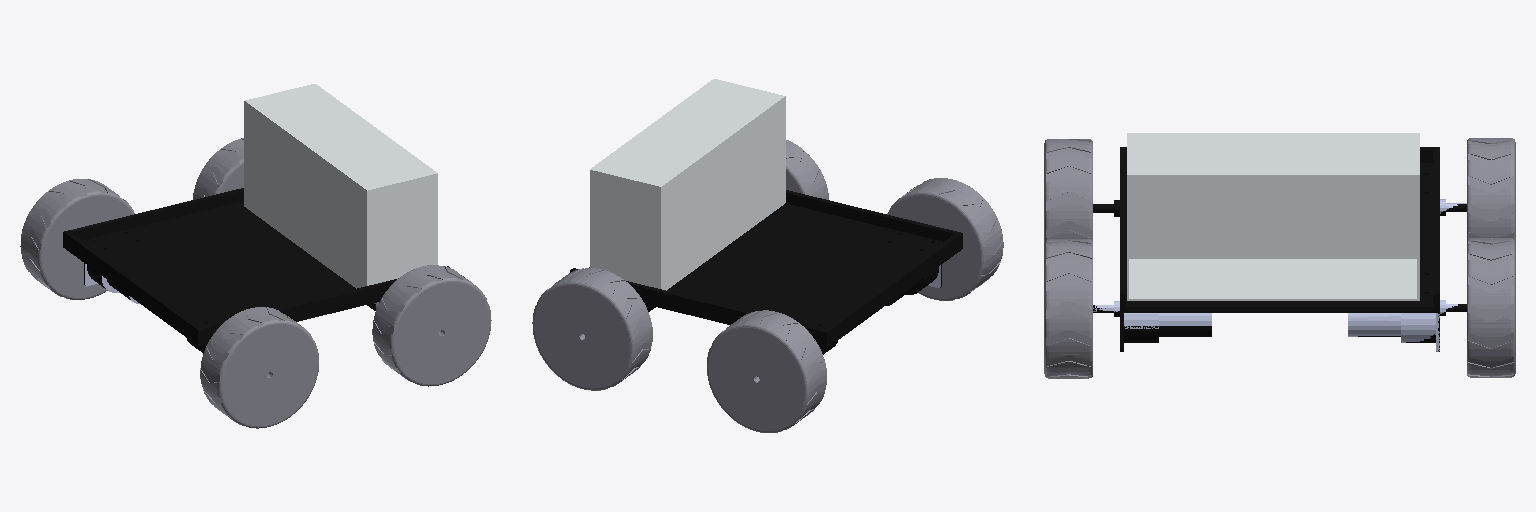
The robot description file, URDF, robot "swcr_main":
<?xml version="1.0" encoding="utf-8"?>
<!-- This URDF was automatically created by SolidWorks to URDF Exporter! Originally created by [author] ([email redacted]) 
     Commit Version: 1.5.1-0-g916b5db  Build Version: 1.5.7152.31018
     For more information, please see http://wiki.ros.org/sw_urdf_exporter -->
<robot xmlns:xacro="http://www.ros.org/wiki/xacro" name="swcr_main">
  <link
    name="base_link">
    <inertial>
      <origin
        xyz="-0.0041791 0.00083627 -3.9767E-17"
        rpy="0 0 0" />
      <mass
        value="0.38731" />
      <inertia
        ixx="0.0019488"
        ixy="1.0786E-05"
        ixz="-1.2484E-18"
        iyy="0.0040833"
        iyz="8.2176E-20"
        izz="0.002141" />
    </inertial>
    <visual>
      <origin
        xyz="0 0 0"
        rpy="0 0 0" />
      <geometry>
        <mesh
          filename="package://swcr_main/meshes/base_link.STL" />
      </geometry>
      <material
        name="">
        <color
          rgba="0.10196 0.10196 0.10196 1" />
      </material>
    </visual>
    <collision>
      <origin
        xyz="0 0 0"
        rpy="0 0 0" />
      <geometry>
        <mesh
          filename="package://swcr_main/meshes/base_link.STL" />
      </geometry>
    </collision>
  </link>
  <link
    name="clampfr_link">
    <inertial>
      <origin
        xyz="0 -0.0051983 -0.0088047"
        rpy="0 0 0" />
      <mass
        value="0.0052439" />
      <inertia
        ixx="1.288E-06"
        ixy="-1.2745E-23"
        ixz="-1.3946E-22"
        iyy="1.2344E-06"
        iyz="3.14E-07"
        izz="1.7153E-06" />
    </inertial>
    <visual>
      <origin
        xyz="0 0 0"
        rpy="0 0 0" />
      <geometry>
        <mesh
          filename="package://swcr_main/meshes/clampfr_link.STL" />
      </geometry>
      <material
        name="">
        <color
          rgba="0.79216 0.81961 0.93333 1" />
      </material>
    </visual>
    <collision>
      <origin
        xyz="0 0 0"
        rpy="0 0 0" />
      <geometry>
        <mesh
          filename="package://swcr_main/meshes/clampfr_link.STL" />
      </geometry>
    </collision>
  </link>
  <joint
    name="clampfr_joint"
    type="fixed">
    <origin
      xyz="0.085 -0.115 -0.007"
      rpy="1.5708 0 0" />
    <parent
      link="base_link" />
    <child
      link="clampfr_link" />
    <axis
      xyz="0 0 0" />
  </joint>
  <link
    name="motorfr_link">
    <inertial>
      <origin
        xyz="0 0.0002226 -0.013076"
        rpy="0 0 0" />
      <mass
        value="0.050858" />
      <inertia
        ixx="2.2316E-05"
        ixy="4.8344E-23"
        ixz="9.4896E-22"
        iyy="2.224E-05"
        iyz="-4.3729E-07"
        izz="6.7856E-06" />
    </inertial>
    <visual>
      <origin
        xyz="0 0 0"
        rpy="0 0 0" />
      <geometry>
        <mesh
          filename="package://swcr_main/meshes/motorfr_link.STL" />
      </geometry>
      <material
        name="">
        <color
          rgba="0.79216 0.81961 0.93333 1" />
      </material>
    </visual>
    <collision>
      <origin
        xyz="0 0 0"
        rpy="0 0 0" />
      <geometry>
        <mesh
          filename="package://swcr_main/meshes/motorfr_link.STL" />
      </geometry>
    </collision>
  </link>
  <joint
    name="motorfr_joint"
    type="fixed">
    <origin
      xyz="0 -0.017565 -0.0155"
      rpy="0 0 0" />
    <parent
      link="clampfr_link" />
    <child
      link="motorfr_link" />
    <axis
      xyz="0 0 0" />
  </joint>
  <link
    name="wheelfr_link">
    <inertial>
      <origin
        xyz="-0.0175 7.0191E-12 -1.0908E-10"
        rpy="0 0 0" />
      <mass
        value="0.31289" />
      <inertia
        ixx="0.00038675"
        ixy="2.9297E-13"
        ixz="-7.7395E-13"
        iyy="0.00022512"
        iyz="-3.4986E-13"
        izz="0.00022512" />
    </inertial>
    <visual>
      <origin
        xyz="0 0 0"
        rpy="0 0 0" />
      <geometry>
        <mesh
          filename="package://swcr_main/meshes/wheelfr_link.STL" />
      </geometry>
      <material
        name="">
        <color
          rgba="0.58824 0.58824 0.63137 1" />
      </material>
    </visual>
    <collision>
      <origin
        xyz="0 0 0"
        rpy="0 0 0" />
      <geometry>
        <mesh
          filename="package://swcr_main/meshes/wheelfr_link.STL" />
      </geometry>
    </collision>
  </link>
  <joint
    name="wheelfr_joint"
    type="continuous">
    <origin
      xyz="0 0.007 0.0343"
      rpy="0 1.5708 0" />
    <parent
      link="motorfr_link" />
    <child
      link="wheelfr_link" />
    <axis
      xyz="1 0 0" />
  </joint>
  <link
    name="clampfl_link">
    <inertial>
      <origin
        xyz="-1.3878E-17 -0.0051983 -0.0088047"
        rpy="0 0 0" />
      <mass
        value="0.0052439" />
      <inertia
        ixx="1.288E-06"
        ixy="-8.9219E-23"
        ixz="-6.8209E-22"
        iyy="1.2344E-06"
        iyz="3.14E-07"
        izz="1.7153E-06" />
    </inertial>
    <visual>
      <origin
        xyz="0 0 0"
        rpy="0 0 0" />
      <geometry>
        <mesh
          filename="package://swcr_main/meshes/clampfl_link.STL" />
      </geometry>
      <material
        name="">
        <color
          rgba="0.79216 0.81961 0.93333 1" />
      </material>
    </visual>
    <collision>
      <origin
        xyz="0 0 0"
        rpy="0 0 0" />
      <geometry>
        <mesh
          filename="package://swcr_main/meshes/clampfl_link.STL" />
      </geometry>
    </collision>
  </link>
  <joint
    name="clampfl_joint"
    type="fixed">
    <origin
      xyz="0.085 0.115 -0.007"
      rpy="1.5708 0 3.1416" />
    <parent
      link="base_link" />
    <child
      link="clampfl_link" />
    <axis
      xyz="0 0 0" />
  </joint>
  <link
    name="motorfl_link">
    <inertial>
      <origin
        xyz="-1.3878E-17 0.0002226 -0.013076"
        rpy="0 0 0" />
      <mass
        value="0.050858" />
      <inertia
        ixx="2.2316E-05"
        ixy="-8.4703E-22"
        ixz="9.2644E-22"
        iyy="2.224E-05"
        iyz="-4.3729E-07"
        izz="6.7856E-06" />
    </inertial>
    <visual>
      <origin
        xyz="0 0 0"
        rpy="0 0 0" />
      <geometry>
        <mesh
          filename="package://swcr_main/meshes/motorfl_link.STL" />
      </geometry>
      <material
        name="">
        <color
          rgba="0.79216 0.81961 0.93333 1" />
      </material>
    </visual>
    <collision>
      <origin
        xyz="0 0 0"
        rpy="0 0 0" />
      <geometry>
        <mesh
          filename="package://swcr_main/meshes/motorfl_link.STL" />
      </geometry>
    </collision>
  </link>
  <joint
    name="motorfl_joint"
    type="fixed">
    <origin
      xyz="0 -0.017565 -0.0155"
      rpy="0 0 -0.39309" />
    <parent
      link="clampfl_link" />
    <child
      link="motorfl_link" />
    <axis
      xyz="0 0 0" />
  </joint>
  <link
    name="wheelfl_link">
    <inertial>
      <origin
        xyz="-0.0175 -7.0191E-12 1.0908E-10"
        rpy="0 0 0" />
      <mass
        value="0.31289" />
      <inertia
        ixx="0.00038675"
        ixy="-2.9297E-13"
        ixz="7.7395E-13"
        iyy="0.00022512"
        iyz="-3.4986E-13"
        izz="0.00022512" />
    </inertial>
    <visual>
      <origin
        xyz="0 0 0"
        rpy="0 0 0" />
      <geometry>
        <mesh
          filename="package://swcr_main/meshes/wheelfl_link.STL" />
      </geometry>
      <material
        name="">
        <color
          rgba="0.58824 0.58824 0.63137 1" />
      </material>
    </visual>
    <collision>
      <origin
        xyz="0 0 0"
        rpy="0 0 0" />
      <geometry>
        <mesh
          filename="package://swcr_main/meshes/wheelfl_link.STL" />
      </geometry>
    </collision>
  </link>
  <joint
    name="wheelfl_joint"
    type="continuous">
    <origin
      xyz="0 0.007 0.0343"
      rpy="0.80263 1.5708 0" />
    <parent
      link="motorfl_link" />
    <child
      link="wheelfl_link" />
    <axis
      xyz="1 0 0" />
  </joint>
  <link
    name="clampbl_link">
    <inertial>
      <origin
        xyz="-1.3878E-17 -0.0051983 -0.0088047"
        rpy="0 0 0" />
      <mass
        value="0.0052439" />
      <inertia
        ixx="1.288E-06"
        ixy="2.5694E-23"
        ixz="-1.8144E-22"
        iyy="1.2344E-06"
        iyz="3.14E-07"
        izz="1.7153E-06" />
    </inertial>
    <visual>
      <origin
        xyz="0 0 0"
        rpy="0 0 0" />
      <geometry>
        <mesh
          filename="package://swcr_main/meshes/clampbl_link.STL" />
      </geometry>
      <material
        name="">
        <color
          rgba="0.79216 0.81961 0.93333 1" />
      </material>
    </visual>
    <collision>
      <origin
        xyz="0 0 0"
        rpy="0 0 0" />
      <geometry>
        <mesh
          filename="package://swcr_main/meshes/clampbl_link.STL" />
      </geometry>
    </collision>
  </link>
  <joint
    name="clampbl_joint"
    type="fixed">
    <origin
      xyz="-0.085 0.115 -0.007"
      rpy="1.5708 0 3.1416" />
    <parent
      link="base_link" />
    <child
      link="clampbl_link" />
    <axis
      xyz="0 0 0" />
  </joint>
  <link
    name="motorbl_link">
    <inertial>
      <origin
        xyz="0 0.0002226 -0.013076"
        rpy="0 0 0" />
      <mass
        value="0.050858" />
      <inertia
        ixx="2.2316E-05"
        ixy="8.4703E-22"
        ixz="1.4294E-21"
        iyy="2.224E-05"
        iyz="-4.3729E-07"
        izz="6.7856E-06" />
    </inertial>
    <visual>
      <origin
        xyz="0 0 0"
        rpy="0 0 0" />
      <geometry>
        <mesh
          filename="package://swcr_main/meshes/motorbl_link.STL" />
      </geometry>
      <material
        name="">
        <color
          rgba="0.79216 0.81961 0.93333 1" />
      </material>
    </visual>
    <collision>
      <origin
        xyz="0 0 0"
        rpy="0 0 0" />
      <geometry>
        <mesh
          filename="package://swcr_main/meshes/motorbl_link.STL" />
      </geometry>
    </collision>
  </link>
  <joint
    name="motorbl_joint"
    type="fixed">
    <origin
      xyz="0 -0.017565 -0.0155"
      rpy="0 0 -0.39309" />
    <parent
      link="clampbl_link" />
    <child
      link="motorbl_link" />
    <axis
      xyz="0 0 0" />
  </joint>
  <link
    name="wheelbl_link">
    <inertial>
      <origin
        xyz="-0.0175 -6.3648E-12 1.0881E-10"
        rpy="0 0 0" />
      <mass
        value="0.31289" />
      <inertia
        ixx="0.00038675"
        ixy="-2.9563E-13"
        ixz="7.7536E-13"
        iyy="0.00022512"
        iyz="-3.4981E-13"
        izz="0.00022512" />
    </inertial>
    <visual>
      <origin
        xyz="0 0 0"
        rpy="0 0 0" />
      <geometry>
        <mesh
          filename="package://swcr_main/meshes/wheelbl_link.STL" />
      </geometry>
      <material
        name="">
        <color
          rgba="0.58824 0.58824 0.63137 1" />
      </material>
    </visual>
    <collision>
      <origin
        xyz="0 0 0"
        rpy="0 0 0" />
      <geometry>
        <mesh
          filename="package://swcr_main/meshes/wheelbl_link.STL" />
      </geometry>
    </collision>
  </link>
  <joint
    name="wheelbl_joint"
    type="continuous">
    <origin
      xyz="0 0.007 0.0343"
      rpy="0.80263 1.5708 0" />
    <parent
      link="motorbl_link" />
    <child
      link="wheelbl_link" />
    <axis
      xyz="1 0 0" />
    <mimic
      joint="wheelfl_joint"
      multiplier="1"
      offset="0" />
  </joint>
  <link
    name="clampbr_link">
    <inertial>
      <origin
        xyz="-1.3878E-17 -0.0051983 -0.0088047"
        rpy="0 0 0" />
      <mass
        value="0.0052439" />
      <inertia
        ixx="1.288E-06"
        ixy="2.5694E-23"
        ixz="-1.8224E-22"
        iyy="1.2344E-06"
        iyz="3.14E-07"
        izz="1.7153E-06" />
    </inertial>
    <visual>
      <origin
        xyz="0 0 0"
        rpy="0 0 0" />
      <geometry>
        <mesh
          filename="package://swcr_main/meshes/clampbr_link.STL" />
      </geometry>
      <material
        name="">
        <color
          rgba="0.79216 0.81961 0.93333 1" />
      </material>
    </visual>
    <collision>
      <origin
        xyz="0 0 0"
        rpy="0 0 0" />
      <geometry>
        <mesh
          filename="package://swcr_main/meshes/clampbr_link.STL" />
      </geometry>
    </collision>
  </link>
  <joint
    name="clampbr_joint"
    type="fixed">
    <origin
      xyz="-0.085 -0.115 -0.007"
      rpy="1.5708 0 0" />
    <parent
      link="base_link" />
    <child
      link="clampbr_link" />
    <axis
      xyz="0 0 0" />
  </joint>
  <link
    name="motorbr_link">
    <inertial>
      <origin
        xyz="0 0.0002226 -0.013076"
        rpy="0 0 0" />
      <mass
        value="0.050858" />
      <inertia
        ixx="2.2316E-05"
        ixy="4.8344E-23"
        ixz="9.4896E-22"
        iyy="2.224E-05"
        iyz="-4.3729E-07"
        izz="6.7856E-06" />
    </inertial>
    <visual>
      <origin
        xyz="0 0 0"
        rpy="0 0 0" />
      <geometry>
        <mesh
          filename="package://swcr_main/meshes/motorbr_link.STL" />
      </geometry>
      <material
        name="">
        <color
          rgba="0.79216 0.81961 0.93333 1" />
      </material>
    </visual>
    <collision>
      <origin
        xyz="0 0 0"
        rpy="0 0 0" />
      <geometry>
        <mesh
          filename="package://swcr_main/meshes/motorbr_link.STL" />
      </geometry>
    </collision>
  </link>
  <joint
    name="motorbr_joint"
    type="fixed">
    <origin
      xyz="0 -0.017565 -0.0155"
      rpy="0 0 0" />
    <parent
      link="clampbr_link" />
    <child
      link="motorbr_link" />
    <axis
      xyz="0 0 0" />
  </joint>
  <link
    name="wheelbr_link">
    <inertial>
      <origin
        xyz="-0.0175 6.8623E-12 -1.0767E-10"
        rpy="0 0 0" />
      <mass
        value="0.31289" />
      <inertia
        ixx="0.00038675"
        ixy="2.9445E-13"
        ixz="-7.7726E-13"
        iyy="0.00022512"
        iyz="-3.4944E-13"
        izz="0.00022512" />
    </inertial>
    <visual>
      <origin
        xyz="0 0 0"
        rpy="0 0 0" />
      <geometry>
        <mesh
          filename="package://swcr_main/meshes/wheelbr_link.STL" />
      </geometry>
      <material
        name="">
        <color
          rgba="0.58824 0.58824 0.63137 1" />
      </material>
    </visual>
    <collision>
      <origin
        xyz="0 0 0"
        rpy="0 0 0" />
      <geometry>
        <mesh
          filename="package://swcr_main/meshes/wheelbr_link.STL" />
      </geometry>
    </collision>
  </link>
  <joint
    name="wheelbr_joint"
    type="continuous">
    <origin
      xyz="0 0.007 0.0343"
      rpy="0.29376 1.5708 0" />
    <parent
      link="motorbr_link" />
    <child
      link="wheelbr_link" />
    <axis
      xyz="1 0 0" />
    <mimic
      joint="wheelfr_joint"
      multiplier="1"
      offset="0" />
  </joint>
  <link
    name="bin_link">
    <inertial>
      <origin
        xyz="-2.5153E-17 -0.024262 -6.9389E-18"
        rpy="0 0 0" />
      <mass
        value="0.33813" />
      <inertia
        ixx="0.00069795"
        ixy="-5.0071E-19"
        ixz="1.2361E-18"
        iyy="0.0022651"
        iyz="1.8537E-19"
        izz="0.0019251" />
    </inertial>
    <visual>
      <origin
        xyz="0 0 0"
        rpy="0 0 0" />
      <geometry>
        <mesh
          filename="package://swcr_main/meshes/bin_link.STL" />
      </geometry>
      <material
        name="">
        <color
          rgba="0.89804 0.91765 0.92941 1" />
      </material>
    </visual>
    <collision>
      <origin
        xyz="0 0 0"
        rpy="0 0 0" />
      <geometry>
        <mesh
          filename="package://swcr_main/meshes/bin_link.STL" />
      </geometry>
    </collision>
  </link>
  <joint
    name="bin_joint"
    type="fixed">
    <origin
      xyz="0.045 -0.005 0.0525"
      rpy="3.1416 0 -1.5708" />
    <parent
      link="base_link" />
    <child
      link="bin_link" />
    <axis
      xyz="0 0 0" />
  </joint>
  <link
    name="pan_link">
    <inertial>
      <origin
        xyz="0 0 0"
        rpy="0 0 0" />
      <mass
        value="0" />
      <inertia
        ixx="0"
        ixy="0"
        ixz="0"
        iyy="0"
        iyz="0"
        izz="0" />
    </inertial>
    <visual>
      <origin
        xyz="0 0 0"
        rpy="0 0 0" />
      <geometry>
        <mesh
          filename="package://swcr_main/meshes/pan_link.STL" />
      </geometry>
      <material
        name="">
        <color
          rgba="1 1 1 1" />
      </material>
    </visual>
    <collision>
      <origin
        xyz="0 0 0"
        rpy="0 0 0" />
      <geometry>
        <mesh
          filename="package://swcr_main/meshes/pan_link.STL" />
      </geometry>
    </collision>
  </link>
  <joint
    name="pan_joint"
    type="revolute">
    <origin
      xyz="0.12 0 0.0075"
      rpy="1.5708 -0.068831 0" />
    <parent
      link="base_link" />
    <child
      link="pan_link" />
    <axis
      xyz="0 0 1" />
    <limit
      lower="0"
      upper="1.58"
      effort="1000"
      velocity="0.5" />
  </joint>
  <gazebo>
    <plugin name="gazebo_ros_control" filename="libgazebo_ros_control.so">
      <robotNamespace>/</robotNamespace>
    </plugin>
  </gazebo>
</robot>

--- What the picture shows (computed from the rendered views, not written in the file) ---
The picture shows the robot from 3 angles, left to right: view 1: azimuth 30°, elevation 25°; view 2: azimuth 150°, elevation 25°; view 3: azimuth 270°, elevation 25°; orthographic projection.
Robot: swcr_main — 15 links, 14 joints (1 revolute, 4 continuous, 9 fixed); root link base_link; default pose: every joint at zero.
Visible links, largest first — view 1: bin_link, base_link, wheelfr_link, wheelbr_link, wheelbl_link, wheelfl_link; view 2: bin_link, base_link, wheelfl_link, wheelbl_link, wheelbr_link, wheelfr_link; view 3: bin_link, base_link, wheelfl_link, wheelfr_link, wheelbl_link, wheelbr_link, motorfl_link, motorfr_link.
Link boxes in pixels (x1,y1,x2,y2): bin_link: (244,84,437,288); base_link: (63,188,449,353); wheelfr_link: (372,265,491,386); wheelbr_link: (200,307,318,428); wheelbl_link: (20,179,134,299); wheelfl_link: (193,138,243,199); bin_link: (590,79,785,290); base_link: (570,190,962,354); wheelfl_link: (532,268,652,390); wheelbl_link: (707,310,826,432); wheelbr_link: (887,178,1003,300); wheelfr_link: (786,140,828,199); bin_link: (1127,133,1419,300); base_link: (1093,147,1466,351); wheelfl_link: (1467,238,1515,377); wheelfr_link: (1044,239,1092,378); wheelbl_link: (1467,138,1515,241); wheelbr_link: (1044,139,1092,242); motorfl_link: (1348,300,1457,342); motorfr_link: (1093,301,1211,328).
Size in the robot's own frame: 0.2727 by 0.3376 by 0.1706 metres.
Meshes: 15 distinct files referenced, 12 mesh visuals loaded (12 binary STL); not drawn: 3 (reference not matched to a file when rendering).